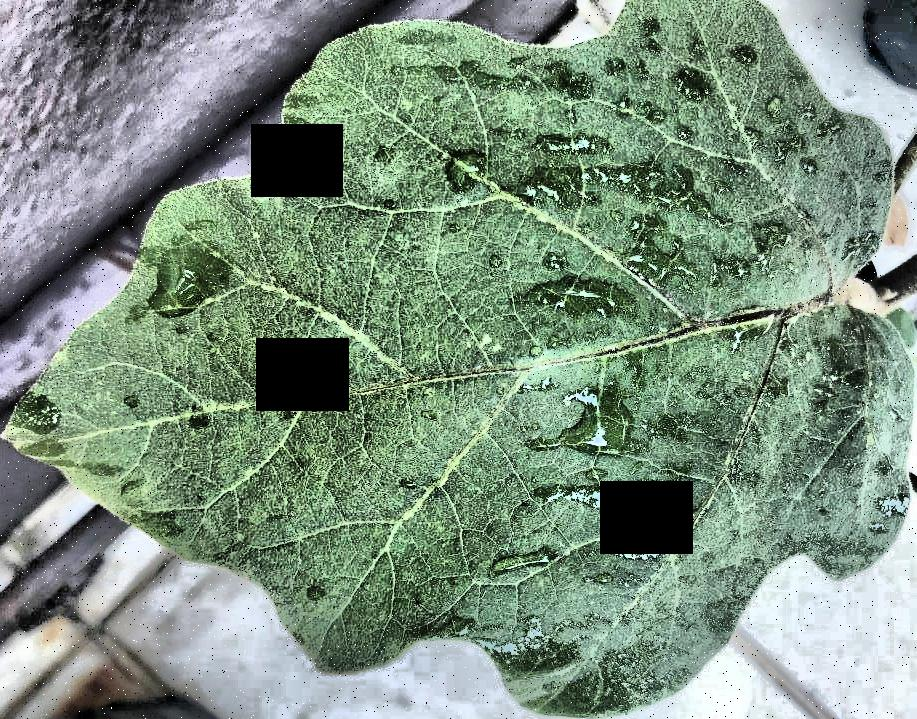HEALTHY: (0, 1, 917, 719)
